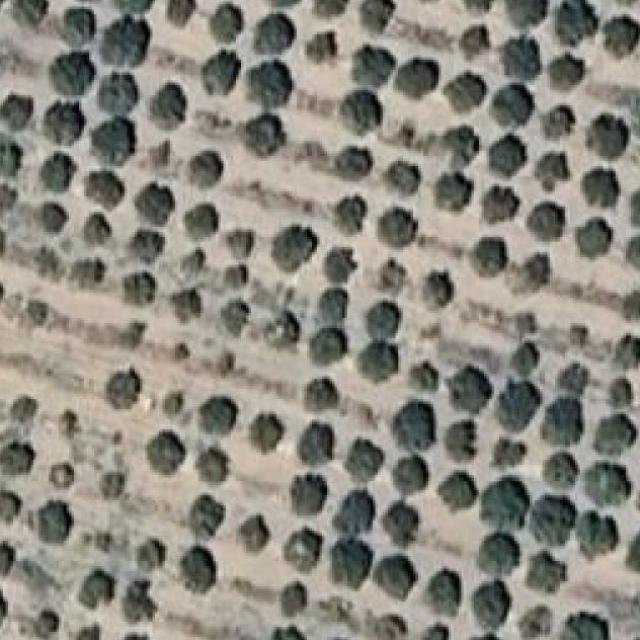Tree: (386, 402, 438, 454), (98, 17, 151, 68), (245, 9, 299, 57), (278, 473, 329, 523), (266, 220, 319, 268), (52, 48, 97, 104), (584, 470, 638, 516), (23, 498, 69, 552), (592, 414, 640, 464), (480, 75, 532, 121), (336, 85, 385, 133), (100, 369, 150, 416), (244, 62, 294, 109), (417, 566, 462, 618), (576, 161, 624, 209), (341, 438, 388, 486), (393, 50, 440, 97), (477, 131, 525, 176), (51, 2, 99, 47), (526, 549, 570, 598), (547, 0, 597, 43), (241, 112, 287, 158), (584, 119, 633, 162), (493, 377, 540, 421), (167, 544, 214, 588), (37, 100, 81, 147), (477, 529, 525, 572), (465, 576, 514, 618), (437, 468, 486, 510), (348, 32, 398, 73), (141, 78, 182, 128), (595, 11, 640, 56), (485, 475, 530, 519), (574, 220, 621, 262), (373, 207, 420, 249), (445, 364, 494, 404), (353, 341, 403, 380), (197, 0, 241, 44), (395, 351, 441, 393), (234, 511, 276, 557), (440, 124, 479, 173), (493, 37, 537, 80), (407, 274, 449, 319), (535, 495, 580, 537), (438, 417, 481, 459), (540, 400, 582, 443), (541, 148, 580, 194), (534, 445, 580, 484), (146, 422, 187, 465), (569, 513, 614, 552), (195, 391, 233, 437), (281, 526, 322, 568), (135, 186, 175, 229), (333, 531, 375, 571), (96, 121, 132, 167), (338, 487, 373, 534), (547, 50, 587, 91), (187, 450, 228, 490), (497, 338, 540, 376), (199, 48, 238, 89), (462, 19, 499, 62), (159, 291, 202, 328), (306, 376, 340, 422), (300, 422, 339, 462), (103, 75, 142, 115), (382, 156, 423, 194), (386, 460, 428, 497), (127, 534, 160, 581), (381, 559, 420, 598), (370, 256, 409, 295), (324, 242, 365, 279), (242, 412, 284, 448), (563, 611, 613, 640), (186, 149, 223, 188), (17, 293, 54, 332), (9, 0, 54, 32), (471, 240, 506, 281), (39, 149, 74, 190), (82, 174, 120, 211), (519, 252, 555, 291), (484, 184, 522, 219), (330, 201, 368, 236), (382, 508, 418, 544), (337, 144, 373, 180), (49, 404, 84, 441), (220, 224, 258, 258), (0, 95, 31, 136), (442, 73, 484, 103), (70, 571, 104, 608), (360, 303, 398, 336), (186, 205, 221, 240), (114, 315, 148, 351), (531, 201, 565, 236), (436, 176, 471, 210), (268, 579, 302, 614), (266, 306, 300, 341), (609, 333, 638, 374), (302, 34, 335, 70), (215, 298, 246, 336), (0, 442, 32, 478), (124, 232, 162, 262), (0, 132, 24, 179), (313, 329, 347, 362), (33, 606, 66, 640), (312, 290, 347, 322), (506, 0, 548, 26), (166, 0, 199, 32), (73, 257, 107, 288), (543, 105, 572, 141), (45, 460, 81, 489), (224, 262, 253, 297), (192, 498, 220, 534), (493, 439, 527, 468), (121, 275, 152, 306), (121, 584, 151, 616), (31, 249, 59, 283), (9, 391, 36, 425), (181, 244, 208, 278), (372, 614, 407, 640), (364, 0, 396, 28), (101, 473, 130, 502), (605, 377, 636, 403), (0, 536, 16, 586), (270, 622, 312, 640), (108, 0, 158, 15), (74, 618, 108, 640), (308, 0, 349, 18), (558, 366, 585, 393), (166, 337, 192, 365), (85, 224, 107, 256), (0, 179, 18, 216), (42, 204, 66, 229), (0, 488, 18, 519), (167, 387, 185, 418), (571, 321, 594, 343), (426, 618, 449, 640), (0, 588, 11, 627), (462, 0, 504, 10), (0, 212, 6, 238)
